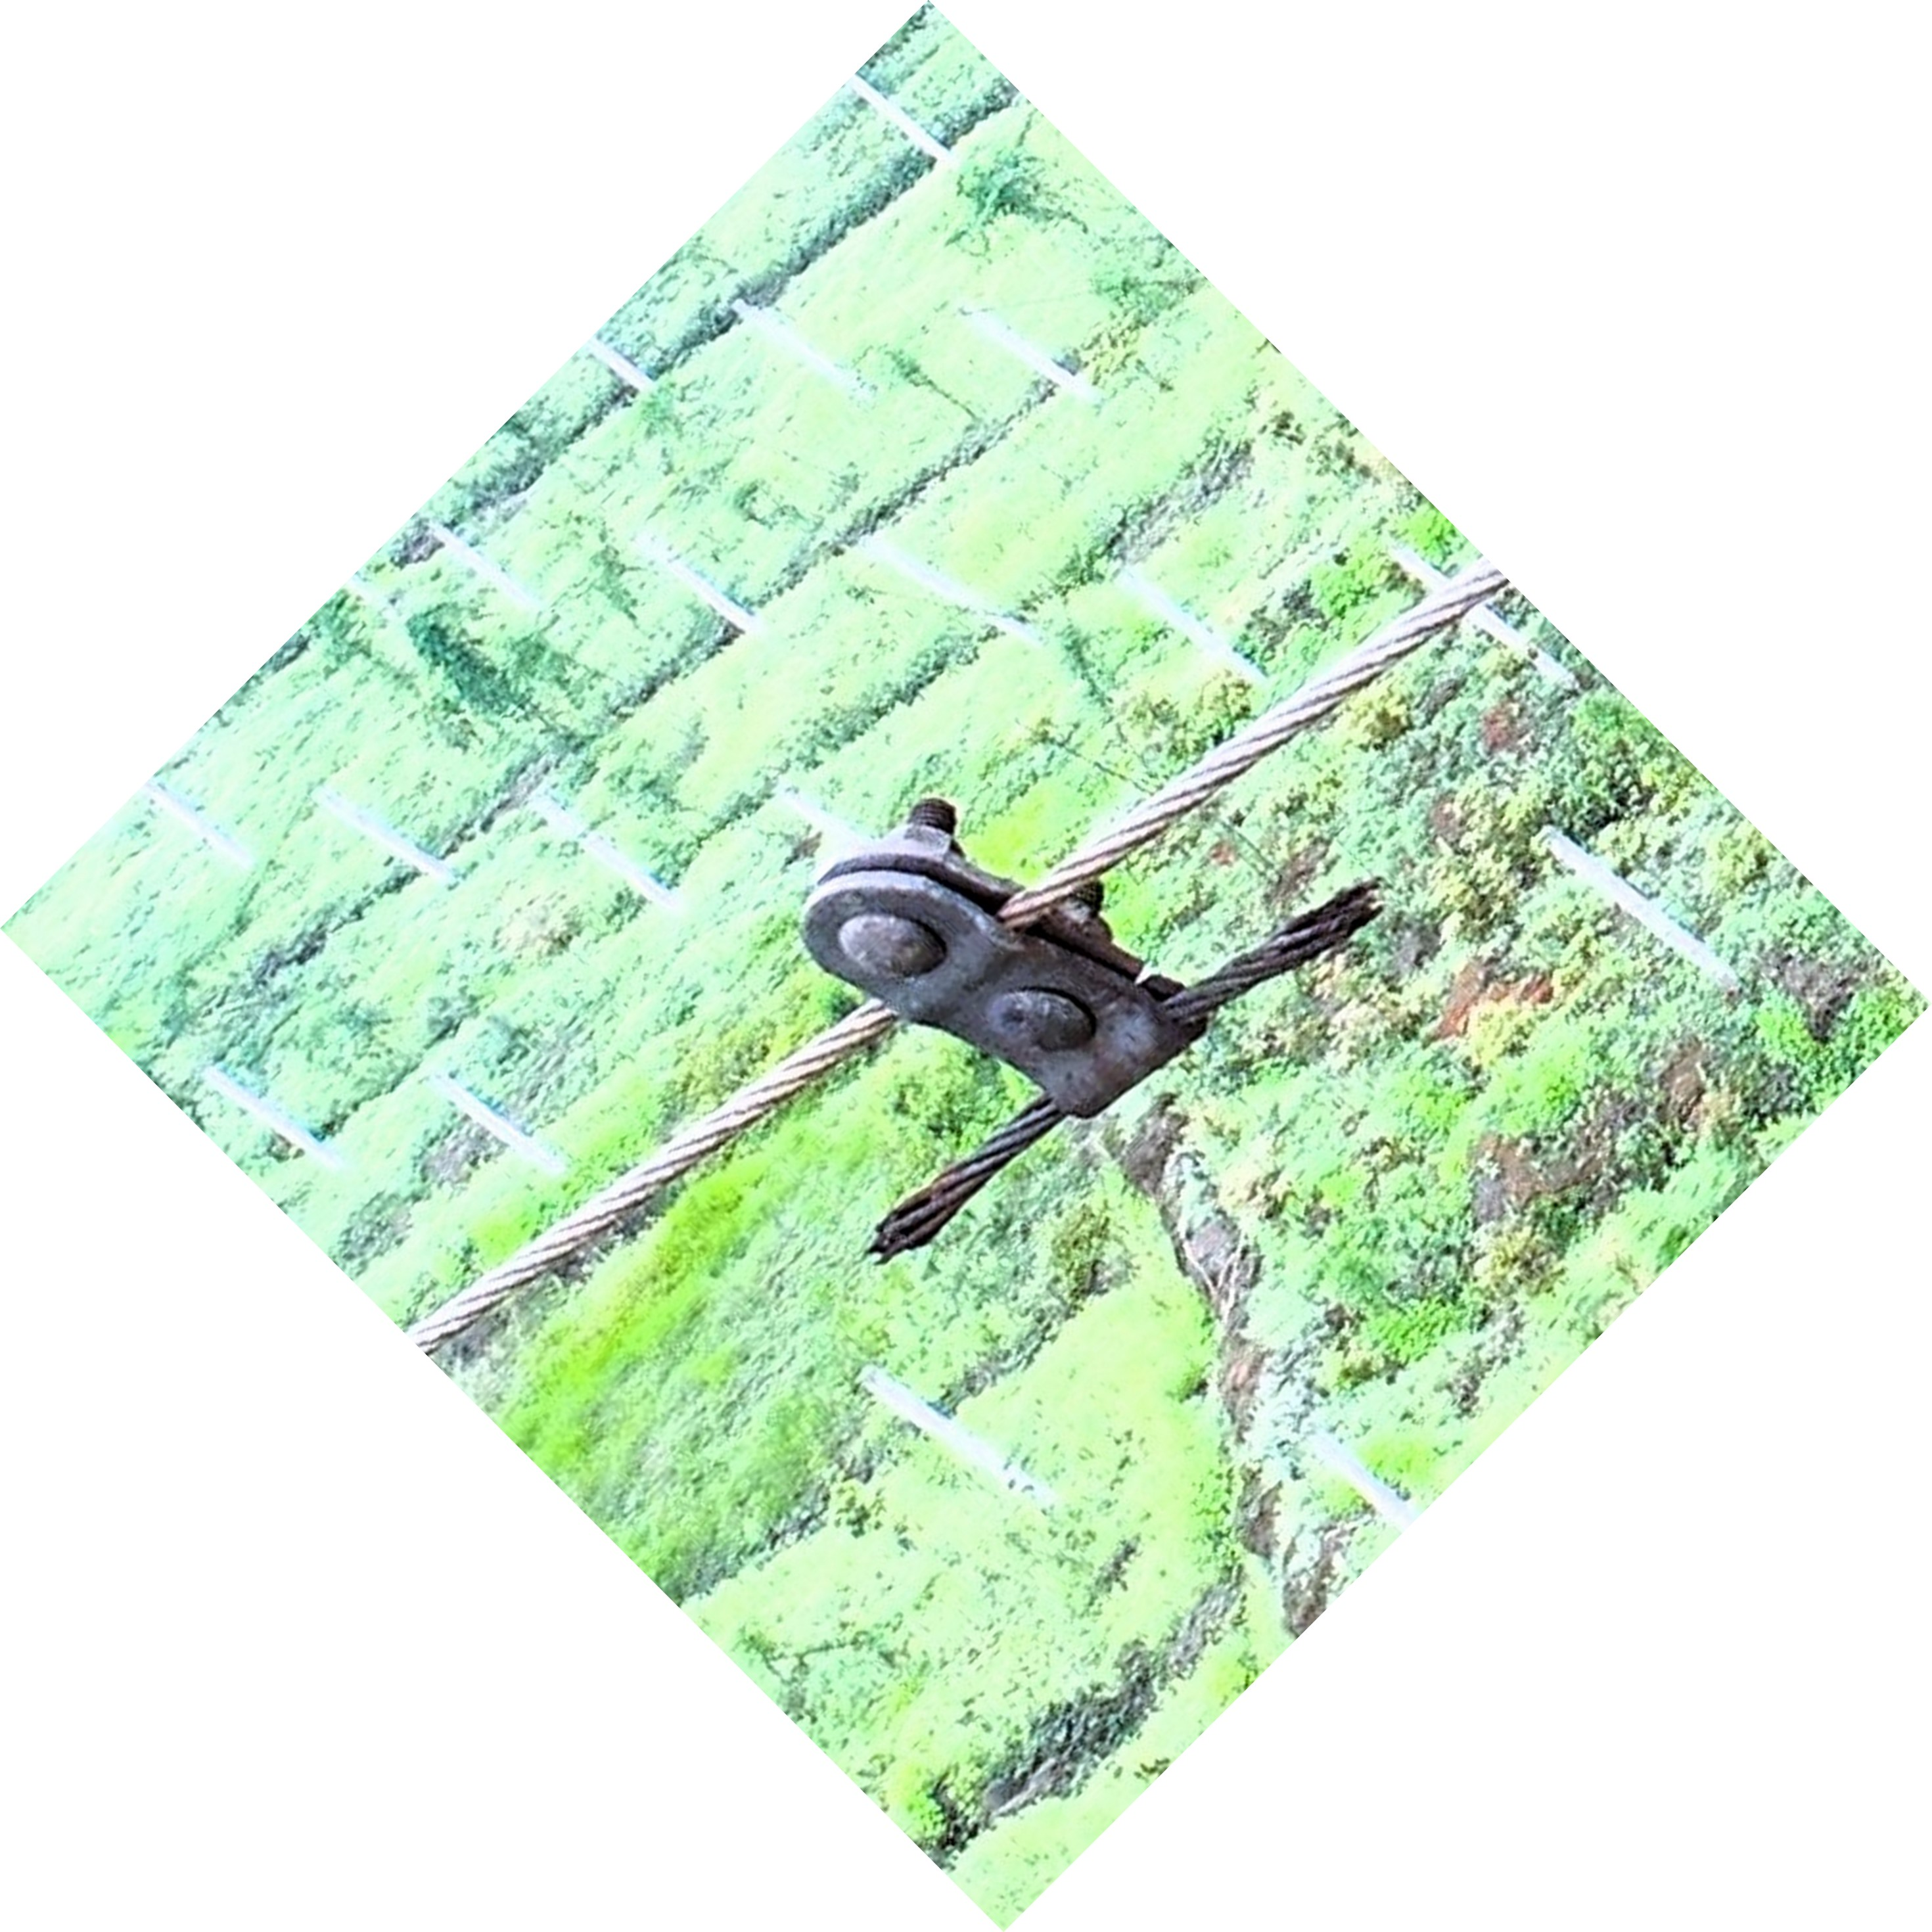Damage of shockproof hammer: (770, 752, 1438, 1315)
